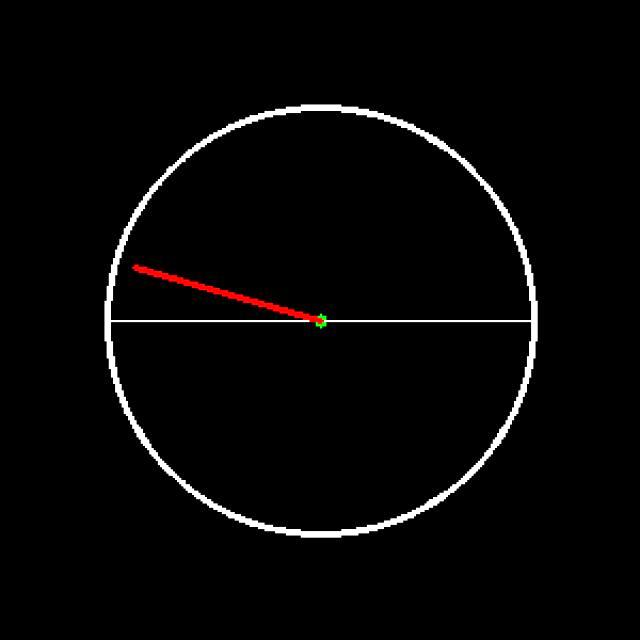Needle_Tip: (113, 245, 178, 296)
Needle_base: (274, 284, 367, 360)
